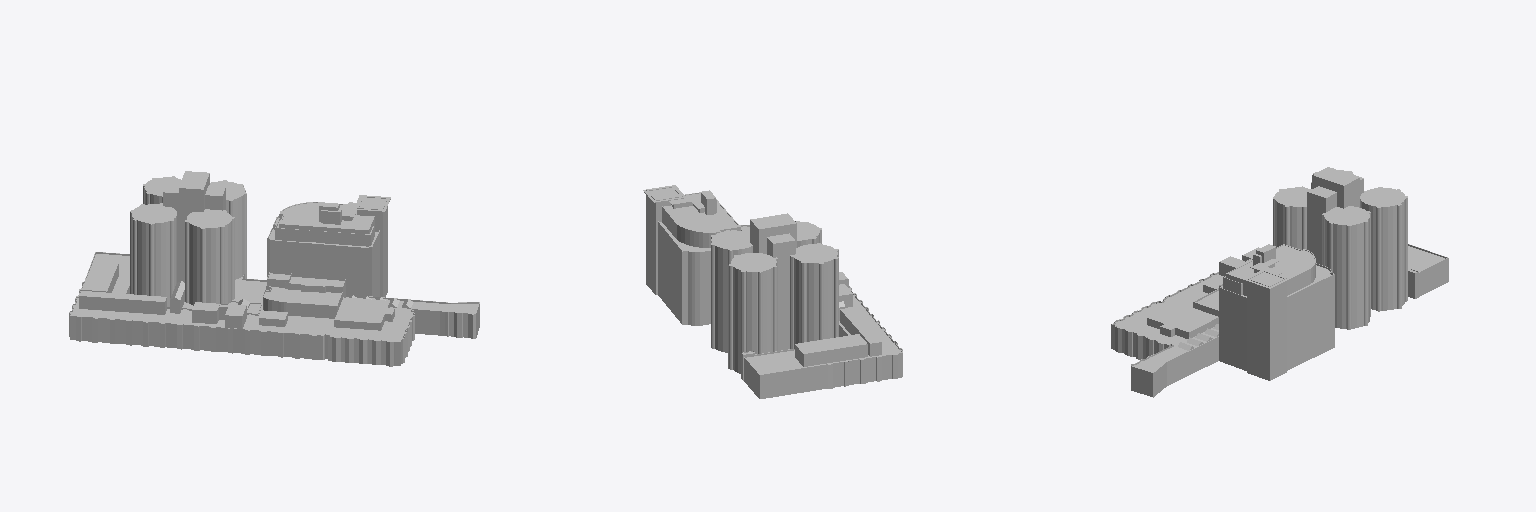
File: hospital_9.obj
The picture shows the model from 3 angles: view 1: azimuth 30°, elevation 25°; view 2: azimuth 150°, elevation 25°; view 3: azimuth 270°, elevation 25°; orthographic projection.
Parts seen in each view (by area): view 1: object_1; view 2: object_1; view 3: object_1.
Part boxes in pixels (left/top/right/bottom): object_1: left=69, top=171, right=479, bottom=366; object_1: left=643, top=185, right=902, bottom=398; object_1: left=1111, top=167, right=1448, bottom=397.
Bounding box in the file's own units: 649 × 244 × 590.